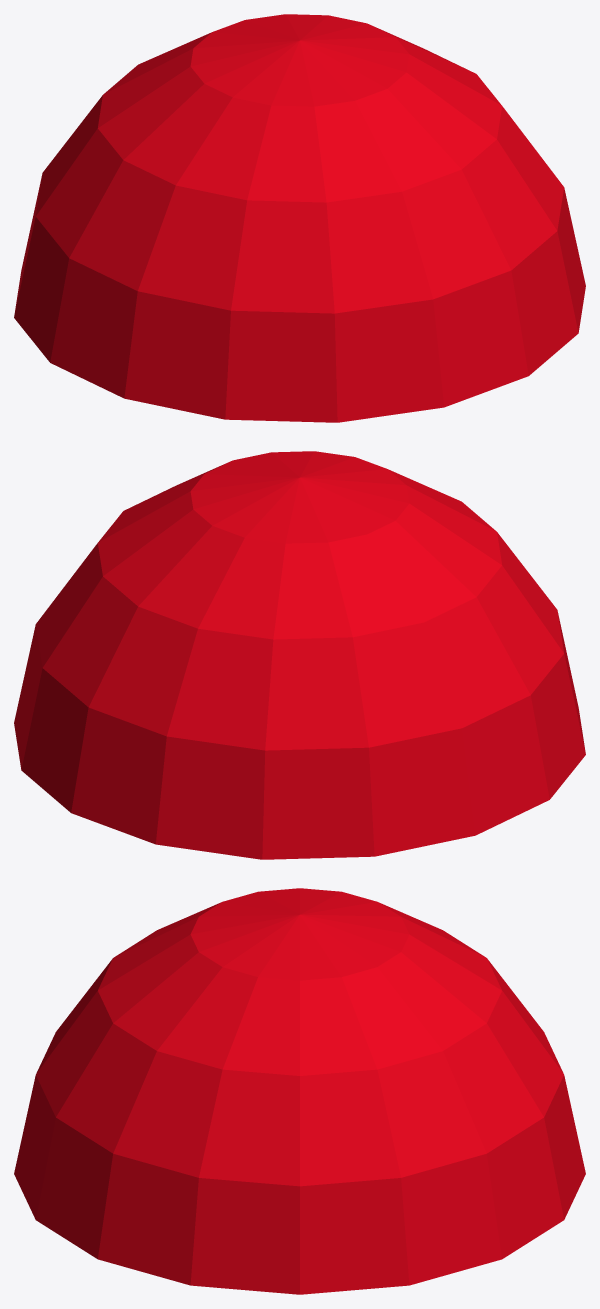
Rendered from Button.glb.
The picture shows the model from 3 angles, top to bottom: view 1: azimuth 30°, elevation 25°; view 2: azimuth 150°, elevation 25°; view 3: azimuth 270°, elevation 25°; orthographic projection.
Parts seen in each view (by area): view 1: Sphere; view 2: Sphere; view 3: Sphere.
Boxes of the visible parts, left/top/right/bottom form: Sphere: left=14, top=14, right=585, bottom=422; Sphere: left=14, top=451, right=585, bottom=859; Sphere: left=14, top=888, right=585, bottom=1294.
Bounding box in the file's own units: 5.93 × 2.96 × 5.93.
